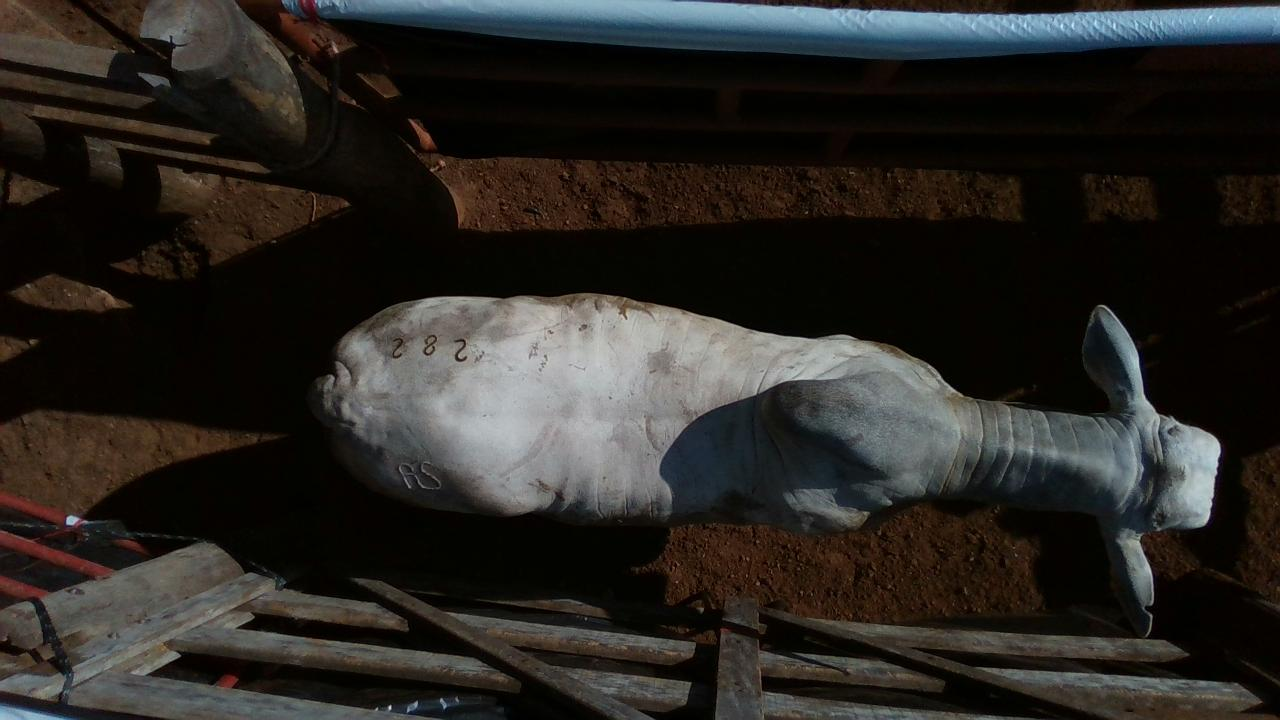cattle: (306, 289, 1223, 637)
